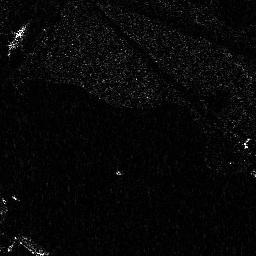ship: (13, 233, 49, 256), (6, 20, 31, 51)
